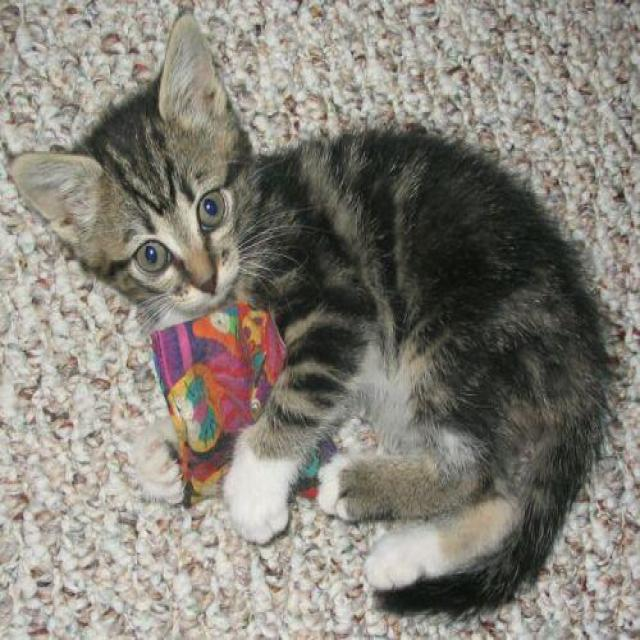Cats: (6, 9, 616, 618)
